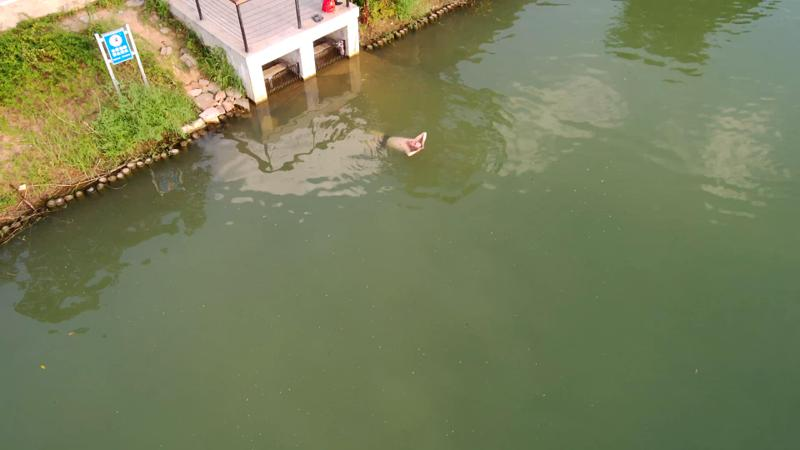swimmers: (366, 130, 427, 157)
